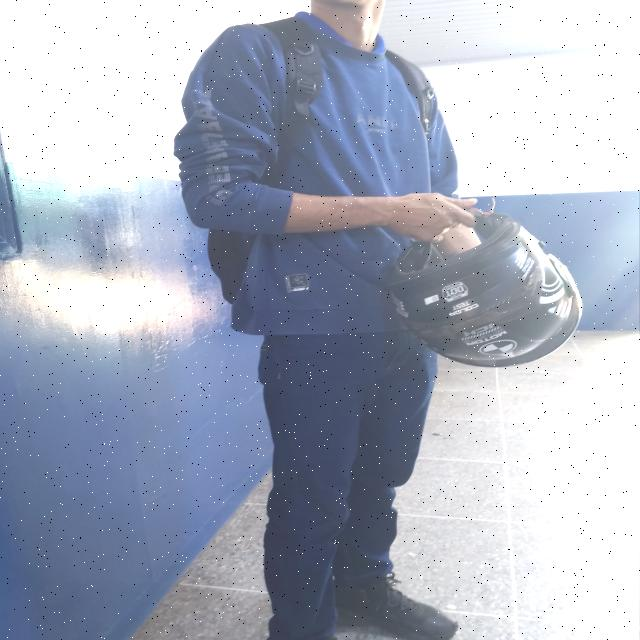pantalon_oscuro: (257, 331, 436, 640)
